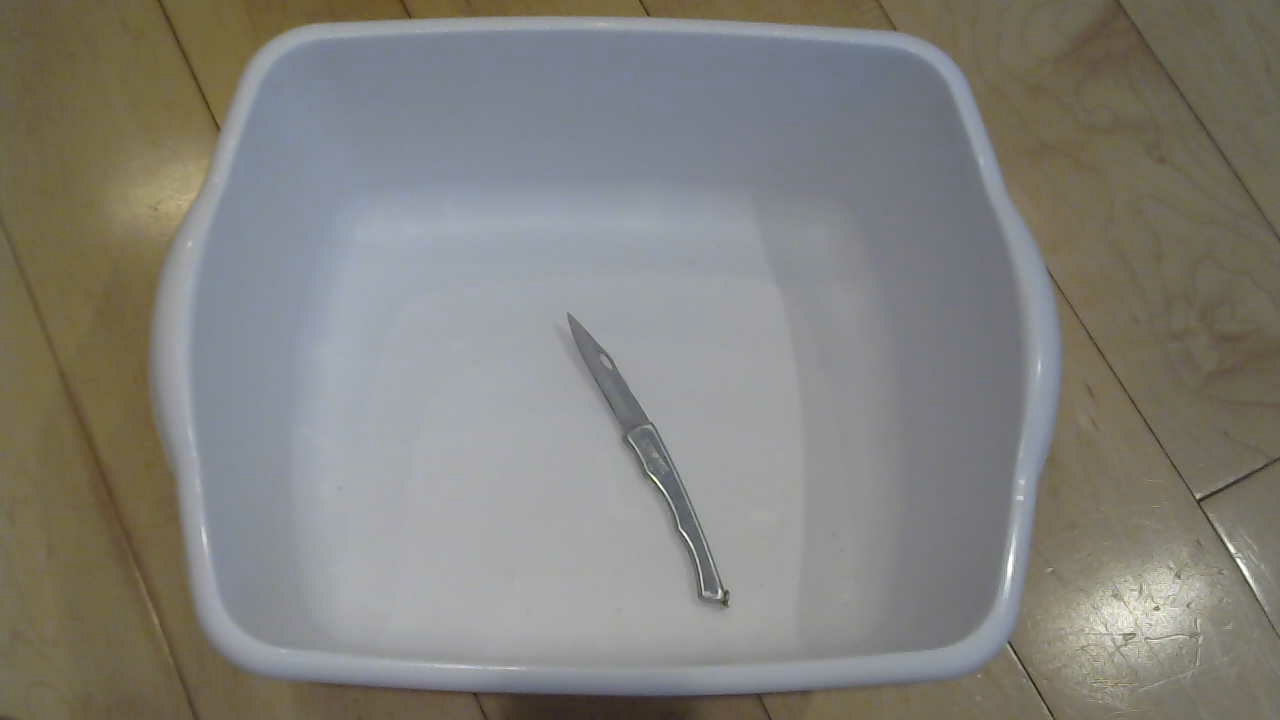knife: (535, 333, 749, 632)
